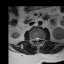CCS_normal: (36, 36, 38, 44)
LFS_normal: (39, 36, 41, 42)
LLS_normal: (38, 36, 39, 43)
RFS_stenosis: (32, 36, 34, 42)
RLS_normal: (34, 36, 36, 42)
